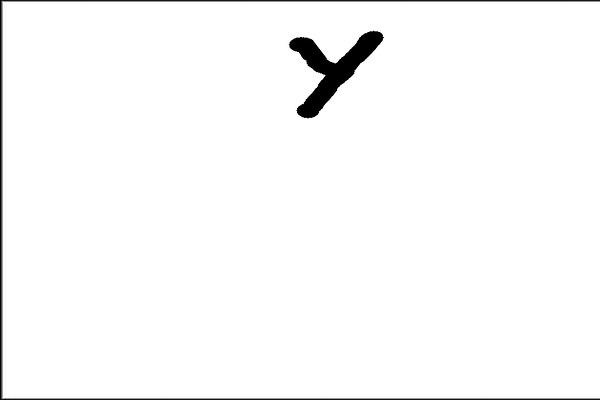Y: (283, 22, 413, 126)
